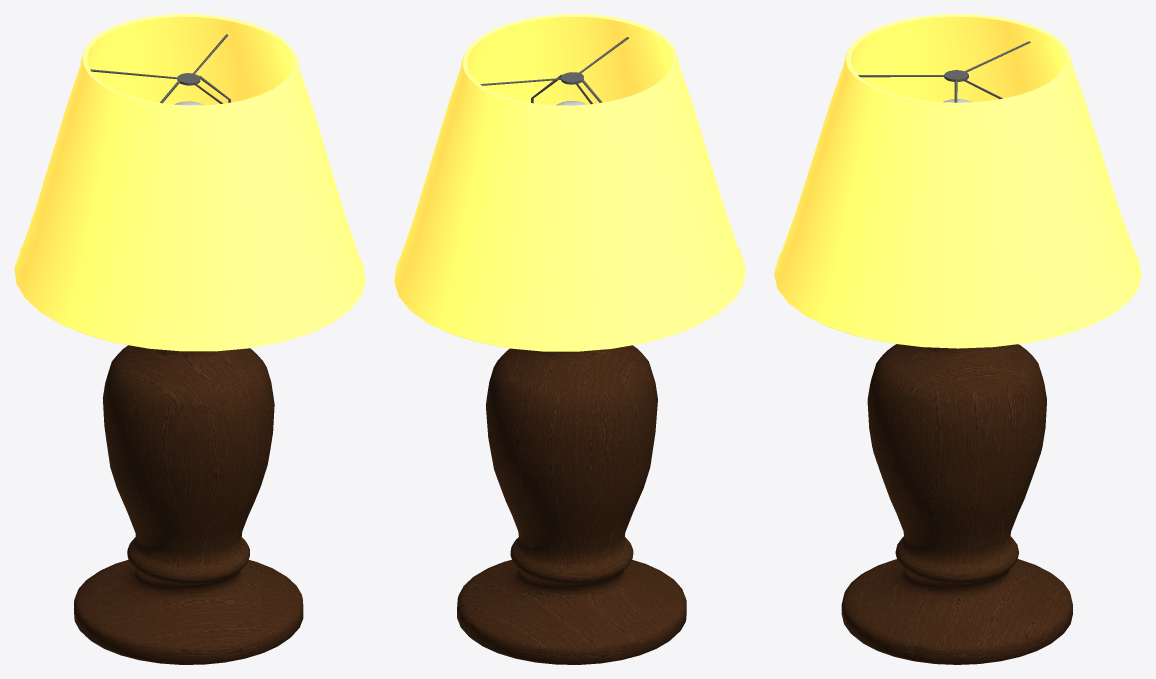
File: table-lamp.glb
3 views of the same model, side by side, from view 1: azimuth 30°, elevation 25°; view 2: azimuth 150°, elevation 25°; view 3: azimuth 270°, elevation 25° (orthographic).
Parts seen in each view (by area): view 1: Object_4_YellowMetalGlow_0, Object_4_BodyWood_0, Object_4_GreyMetal_0; view 2: Object_4_YellowMetalGlow_0, Object_4_BodyWood_0, Object_4_GreyMetal_0; view 3: Object_4_YellowMetalGlow_0, Object_4_BodyWood_0, Object_4_GreyMetal_0.
Boxes of the visible parts, bbox=[...] form: Object_4_YellowMetalGlow_0: bbox=[14, 14, 365, 351]; Object_4_BodyWood_0: bbox=[74, 345, 303, 664]; Object_4_GreyMetal_0: bbox=[90, 34, 230, 103]; Object_4_YellowMetalGlow_0: bbox=[394, 14, 745, 351]; Object_4_BodyWood_0: bbox=[457, 345, 686, 664]; Object_4_GreyMetal_0: bbox=[480, 37, 628, 104]; Object_4_YellowMetalGlow_0: bbox=[774, 14, 1141, 348]; Object_4_BodyWood_0: bbox=[841, 344, 1072, 664]; Object_4_GreyMetal_0: bbox=[858, 41, 1030, 102].
Bounding box in the file's own units: 0.4815 × 0.8691 × 0.5087.
Materials: 6 (2 with a texture image).
